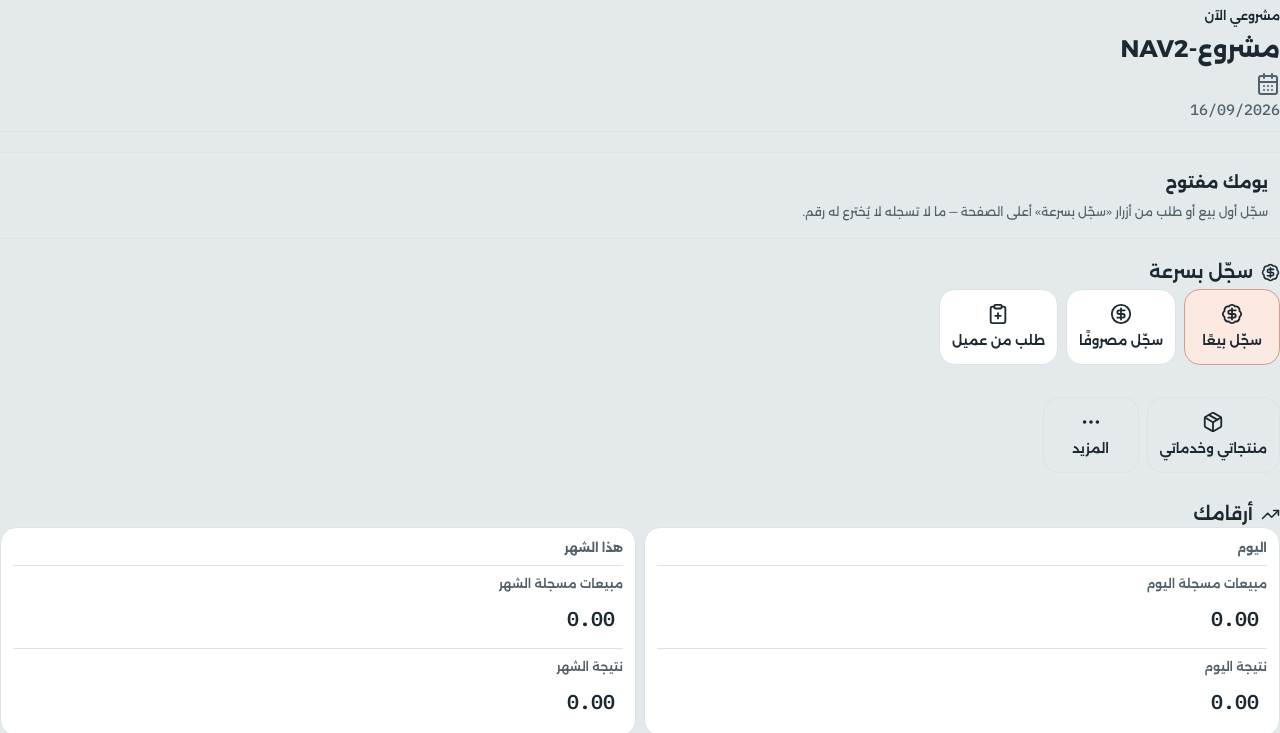
Test: NAV-001 — approved five-seat navigation › the expense quick action opens the expense form with the approved wallet rules
The image size is (1280, 733).
Check: the element with test id "home-quick-actions" is shown, box x1=939 y1=289 x2=1279 y2=365
Step 1. Click the button "سجّل مصروفًا" → (1121, 327), box x1=1066 y1=289 x2=1176 y2=365
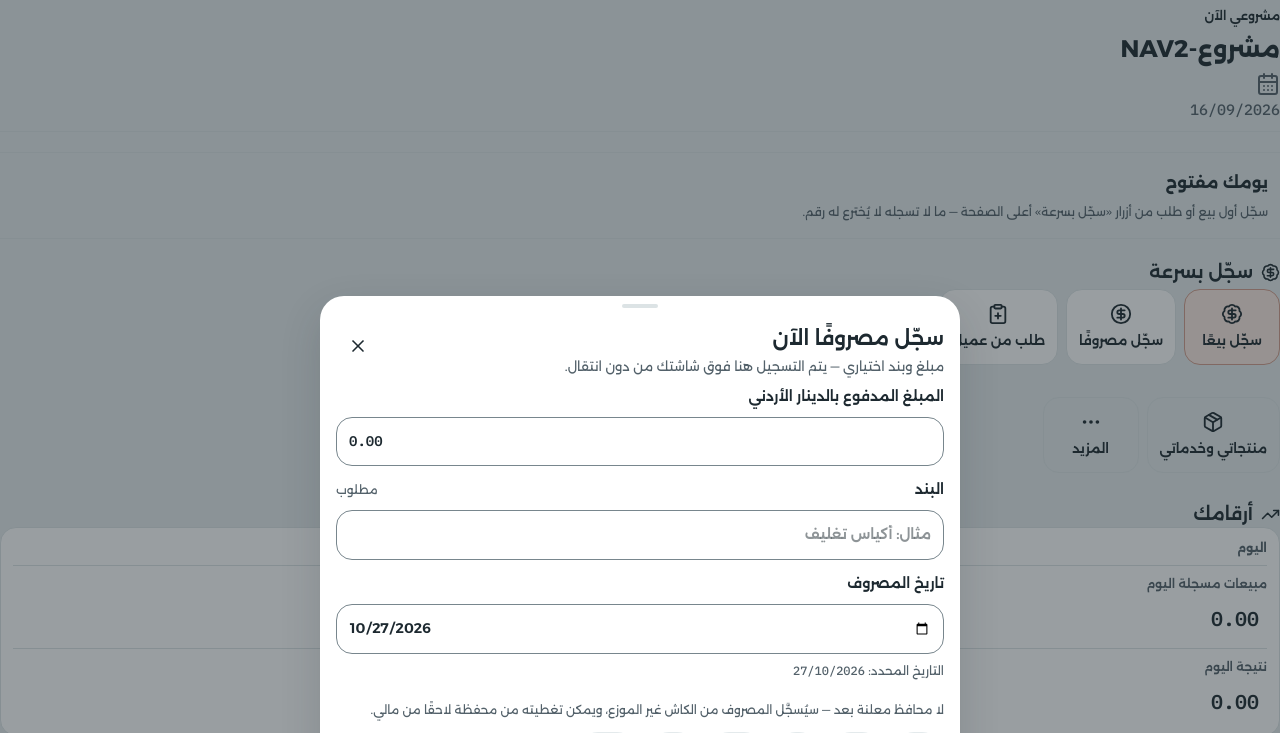
Check: the heading "سجّل مصروفًا الآن" is shown, box x1=772 y1=326 x2=944 y2=350
Check: the field named "مبلغ المصروف" is shown, box x1=336 y1=417 x2=944 y2=466
Check: the text "من الكاش غير الموزع" is shown, box x1=371 y1=702 x2=944 y2=717
